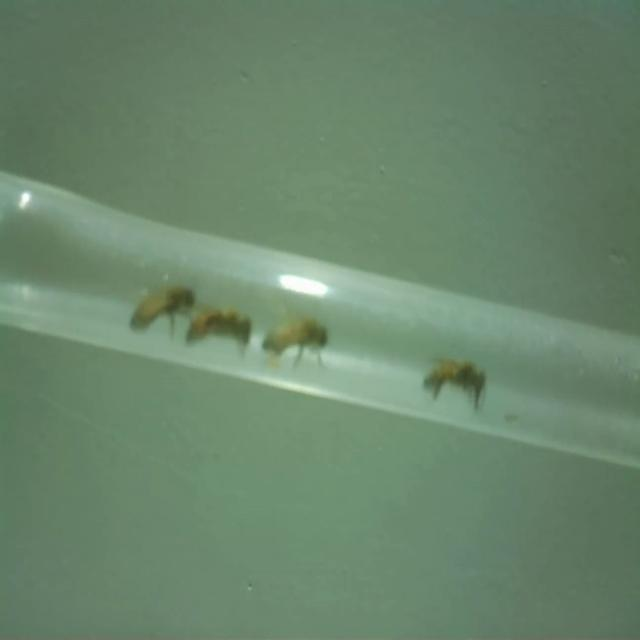Honeybee-Detection: (126, 278, 195, 342), (261, 313, 329, 367), (423, 356, 487, 411), (185, 305, 252, 355)
